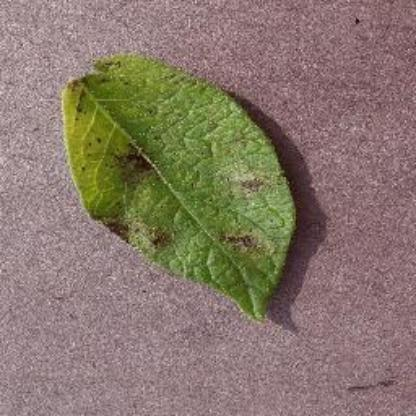Late-Blight: (43, 42, 343, 338)
